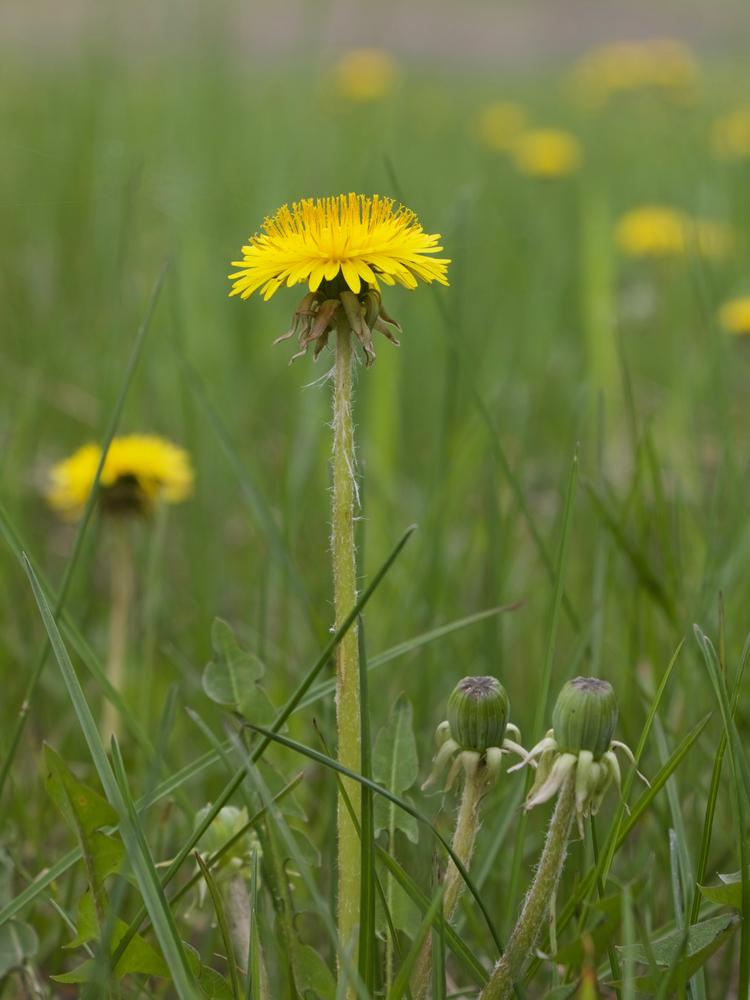dandelion: (220, 164, 447, 316), (39, 418, 217, 522)
